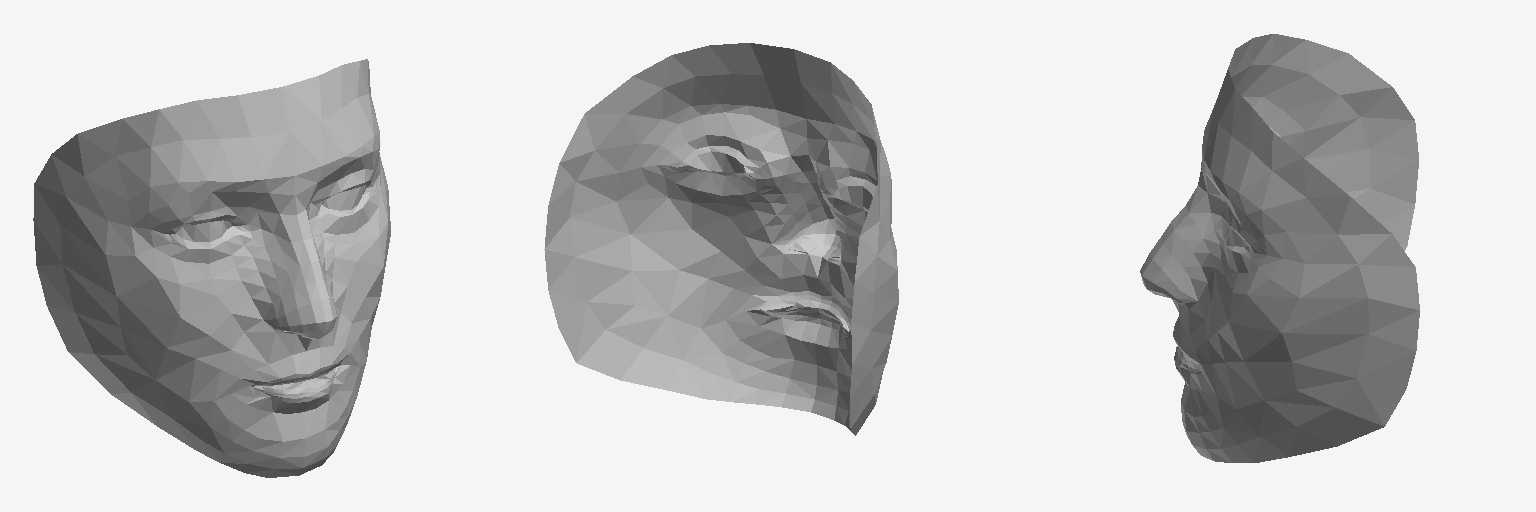
Rendered from Andy_Wah_facemesh.obj.
3 renders of one model, left to right at view 1: azimuth 30°, elevation 25°; view 2: azimuth 150°, elevation 25°; view 3: azimuth 270°, elevation 25°, orthographic.
Parts seen in each view (by area): view 1: dnzb_Dilraba_advanced_centered.001; view 2: dnzb_Dilraba_advanced_centered.001; view 3: dnzb_Dilraba_advanced_centered.001.
Boxes of the visible parts, box(x1,y1,x2,y2) form: dnzb_Dilraba_advanced_centered.001: box(33, 59, 390, 477); dnzb_Dilraba_advanced_centered.001: box(544, 43, 898, 435); dnzb_Dilraba_advanced_centered.001: box(1140, 34, 1419, 462).
Size of the model in its own units: 14.08 by 16.42 by 11.09.